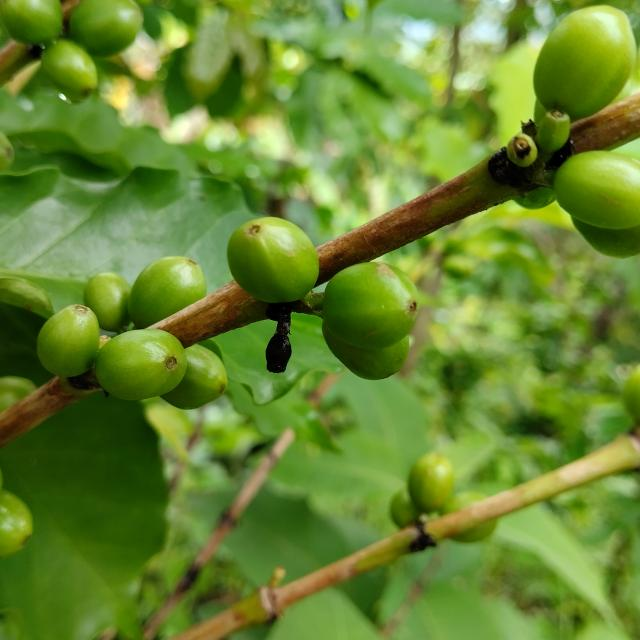green: (534, 4, 638, 120), (323, 262, 419, 349), (227, 217, 319, 303), (555, 150, 640, 229), (94, 329, 187, 401), (128, 256, 206, 329), (322, 322, 410, 380), (37, 305, 99, 377), (161, 344, 227, 410), (69, 0, 142, 56), (40, 39, 97, 102), (83, 271, 130, 333), (573, 217, 640, 258)
